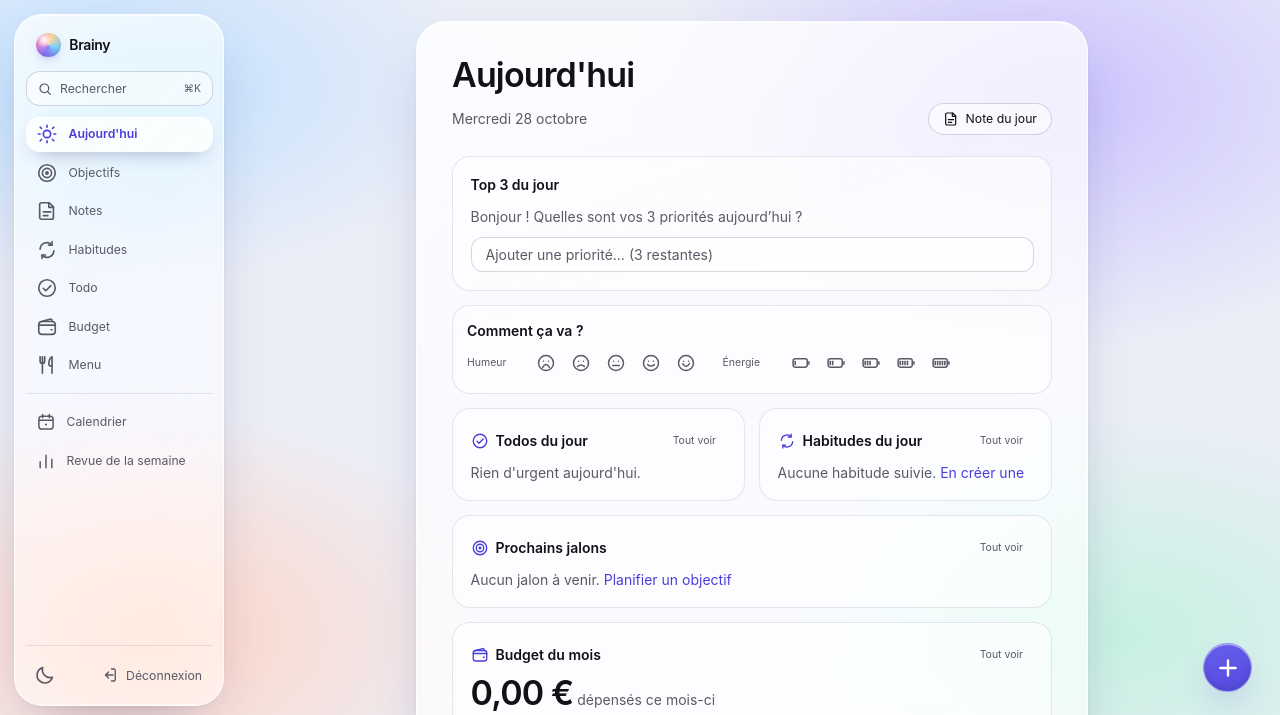
Scenario: raccourcis clavier › Ctrl+K ouvre la palette : recherche puis Entrée pour y aller
Expected: the heading "Aujourd'hui" is shown, [452, 54, 634, 94]
Type keys "{Control>}k{/Control}"
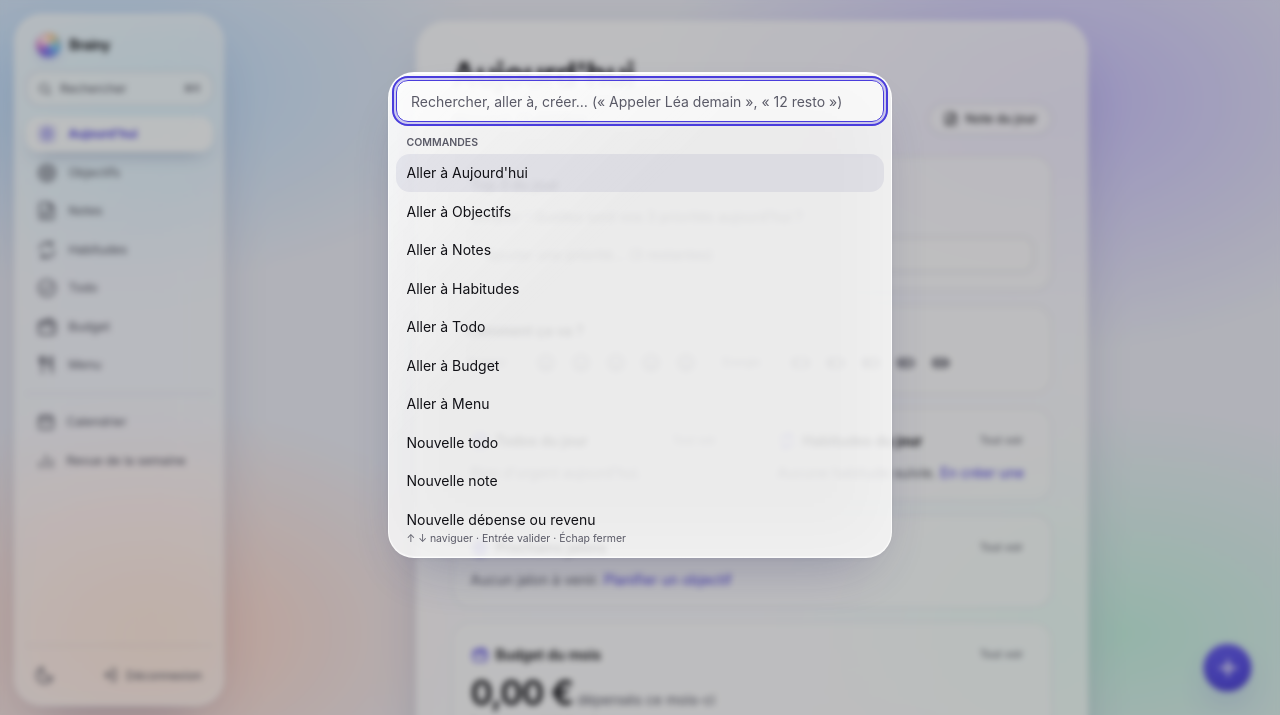
Type "budg" into the dropdown named "Rechercher ou créer" at (640, 101), box [396, 80, 884, 122]
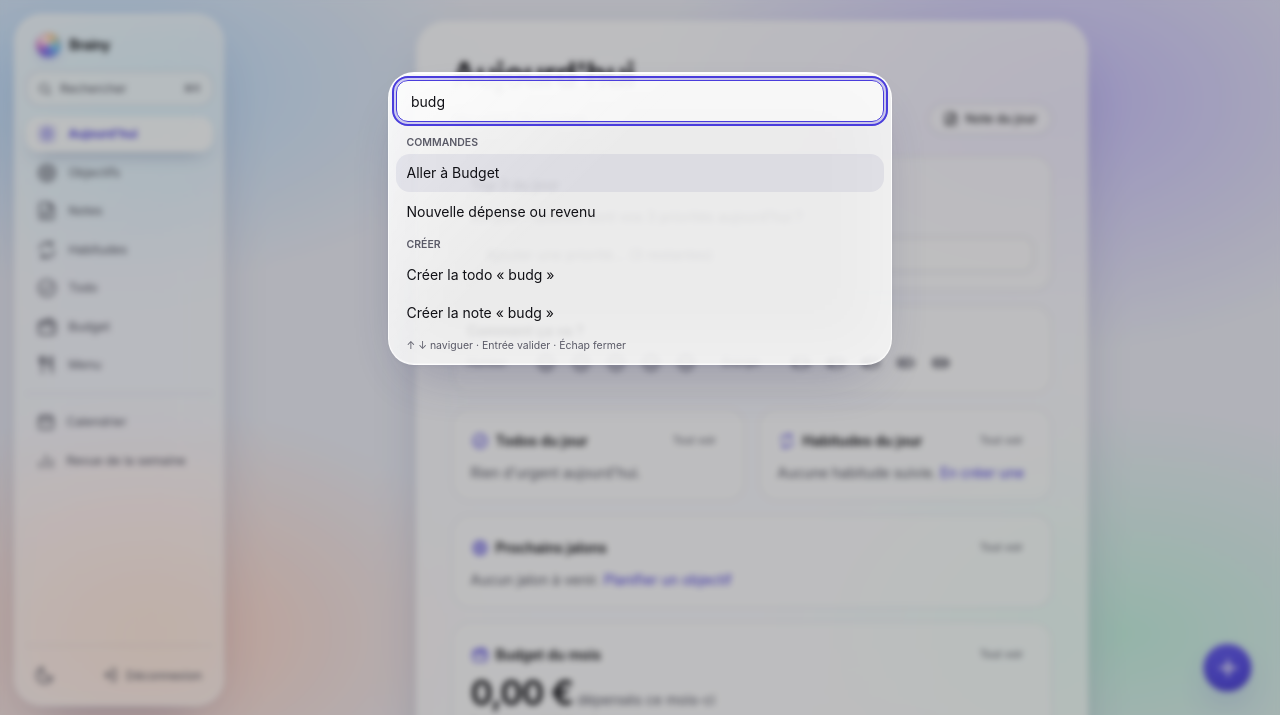
Now the option "Aller à Budget" is selected, box [396, 154, 884, 192]
Press Enter
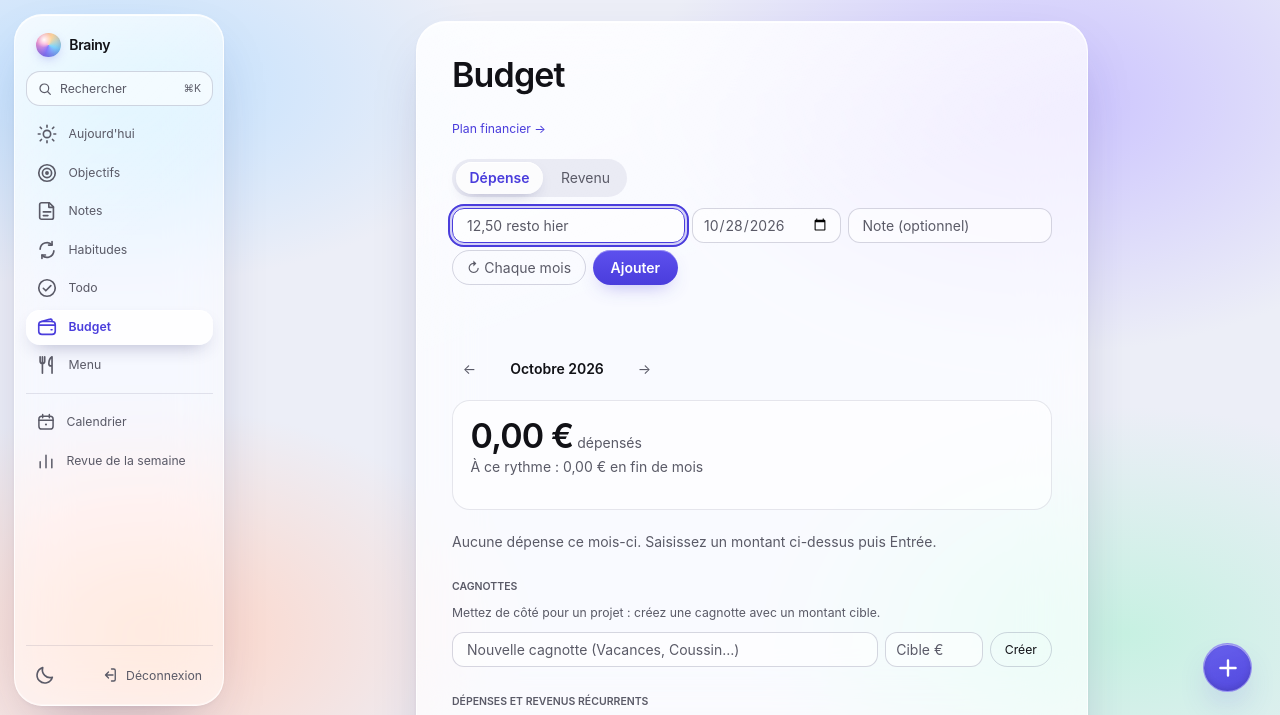
Now the heading "Budget" is shown, box [452, 54, 565, 94]
